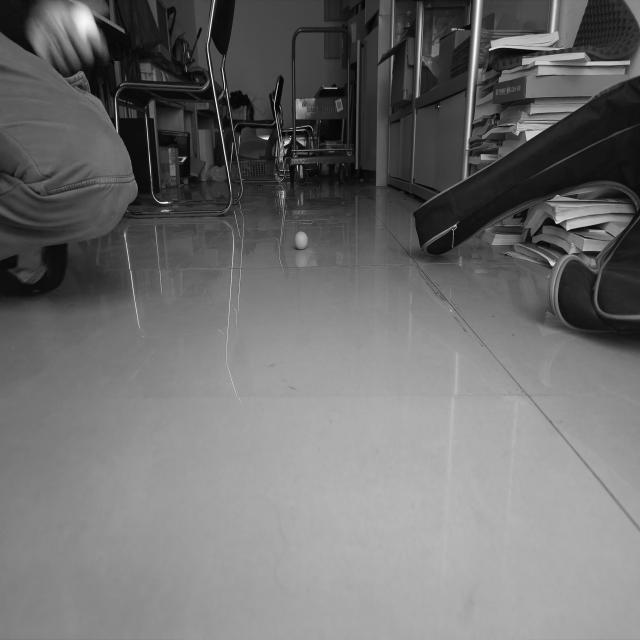ping-pong-ball: (68, 5, 98, 40), (294, 232, 308, 250)
